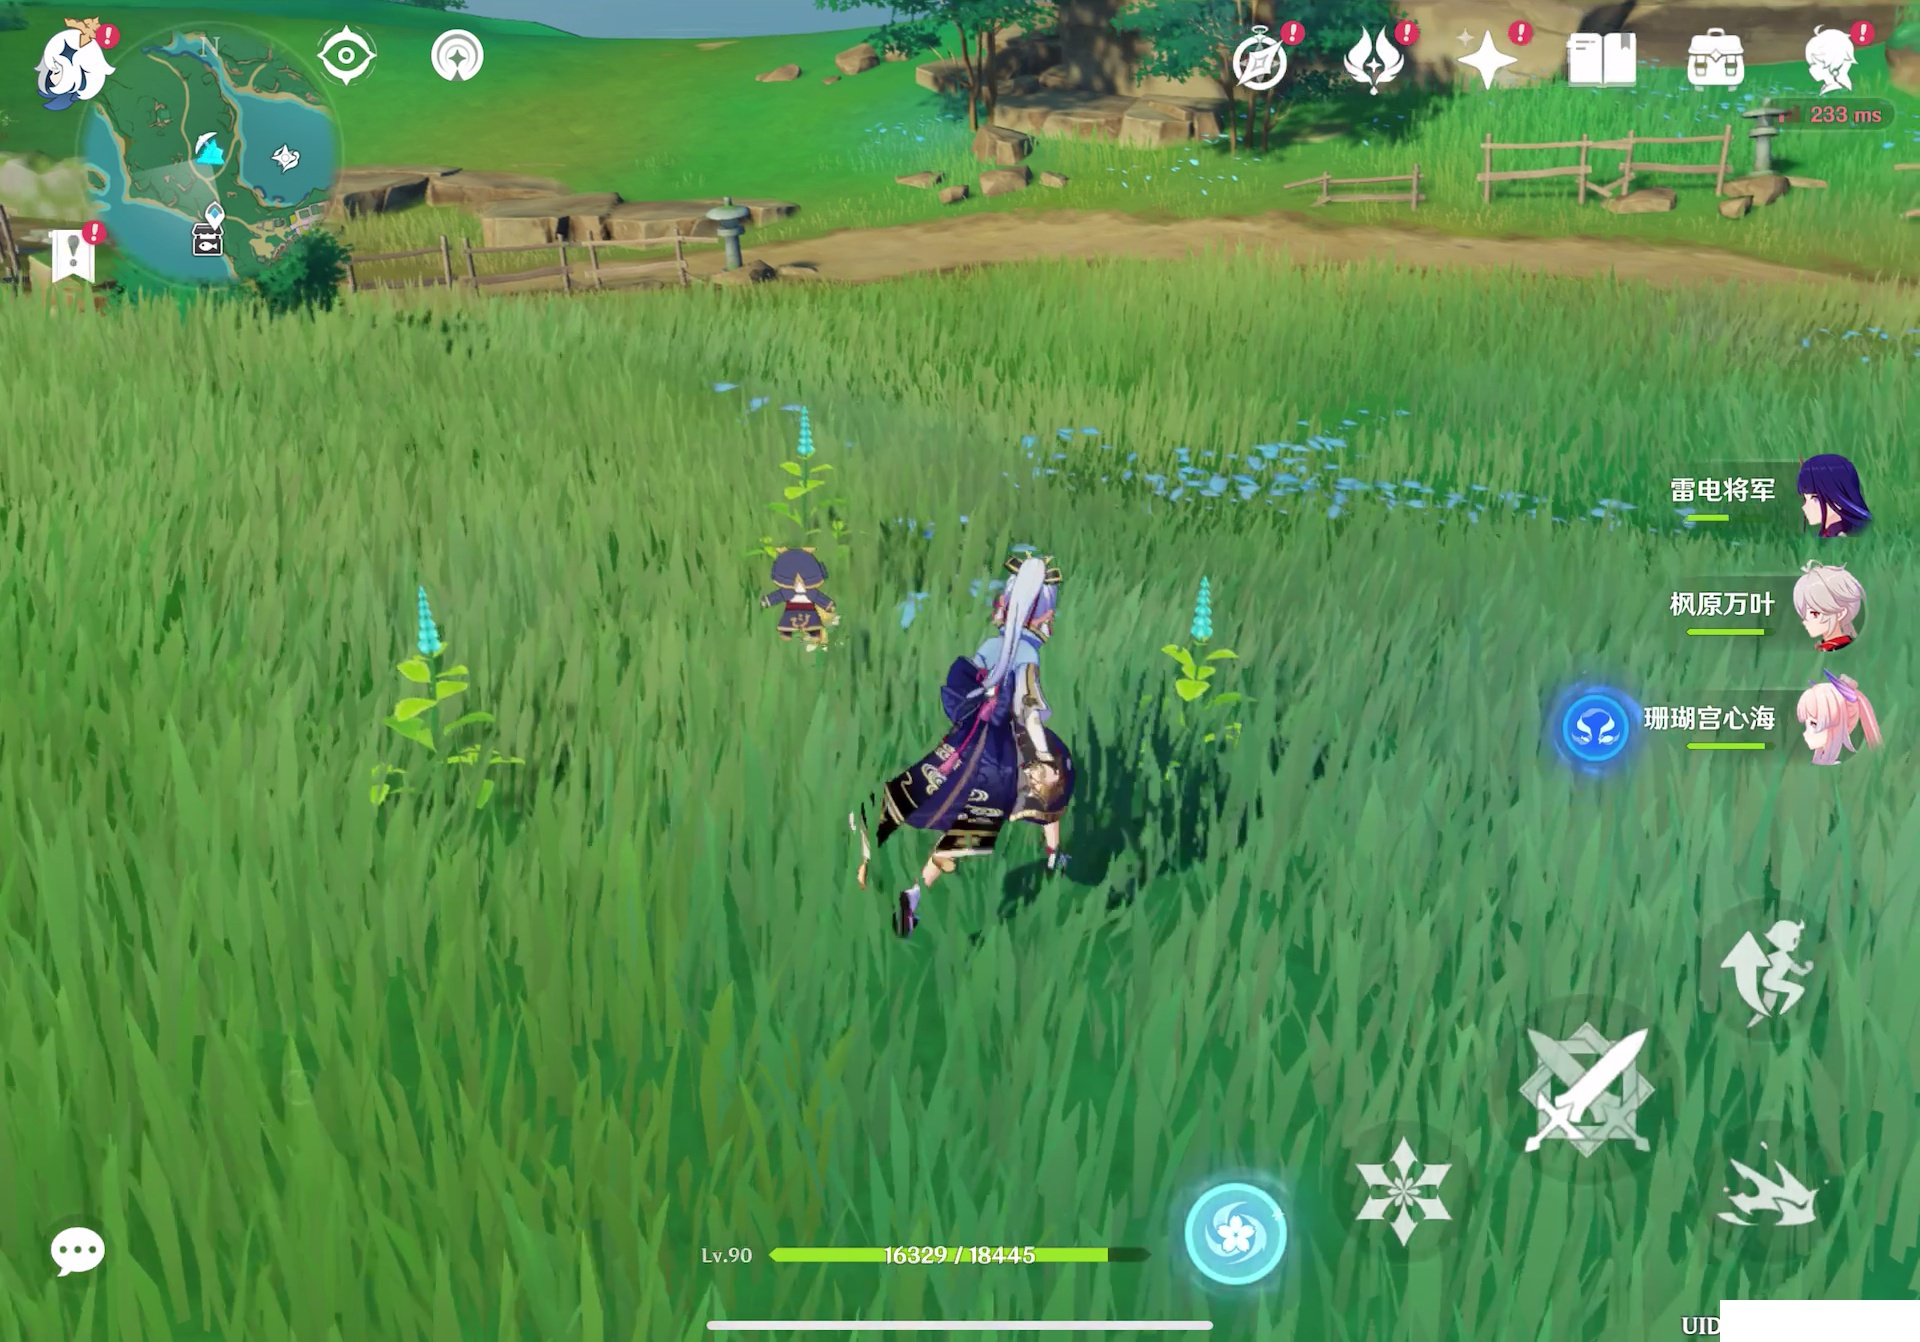没用的薄荷: (368, 586, 535, 862), (1137, 569, 1261, 780), (735, 401, 870, 551)
神里绫龟: (849, 508, 1099, 945)
